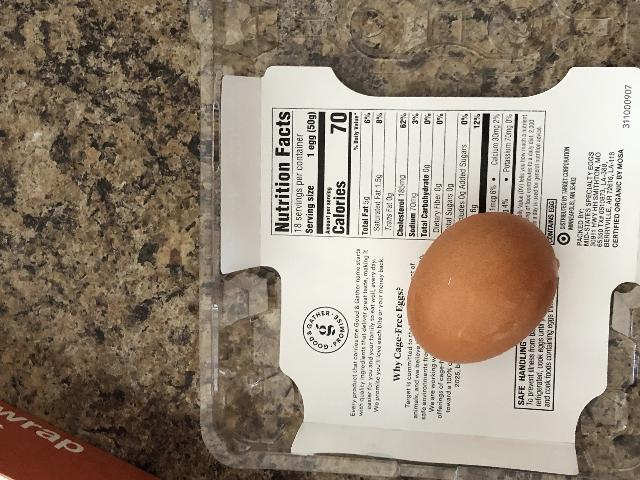Sano: (405, 210, 559, 364)
